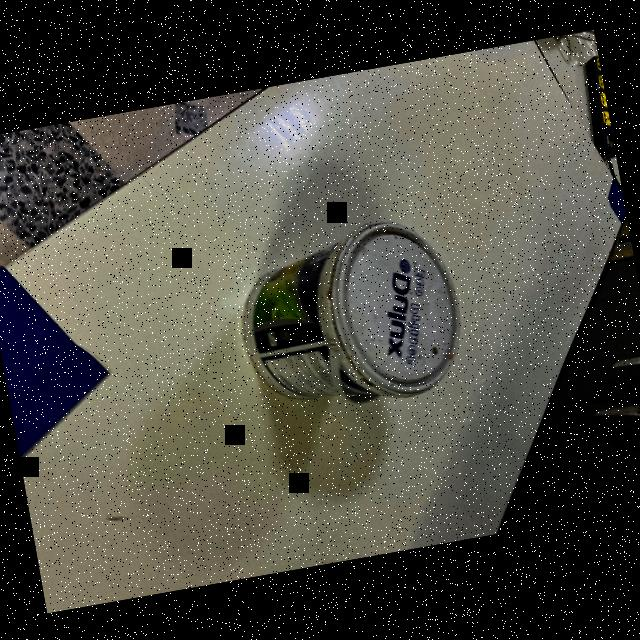paint_bucket: (229, 214, 476, 420)
